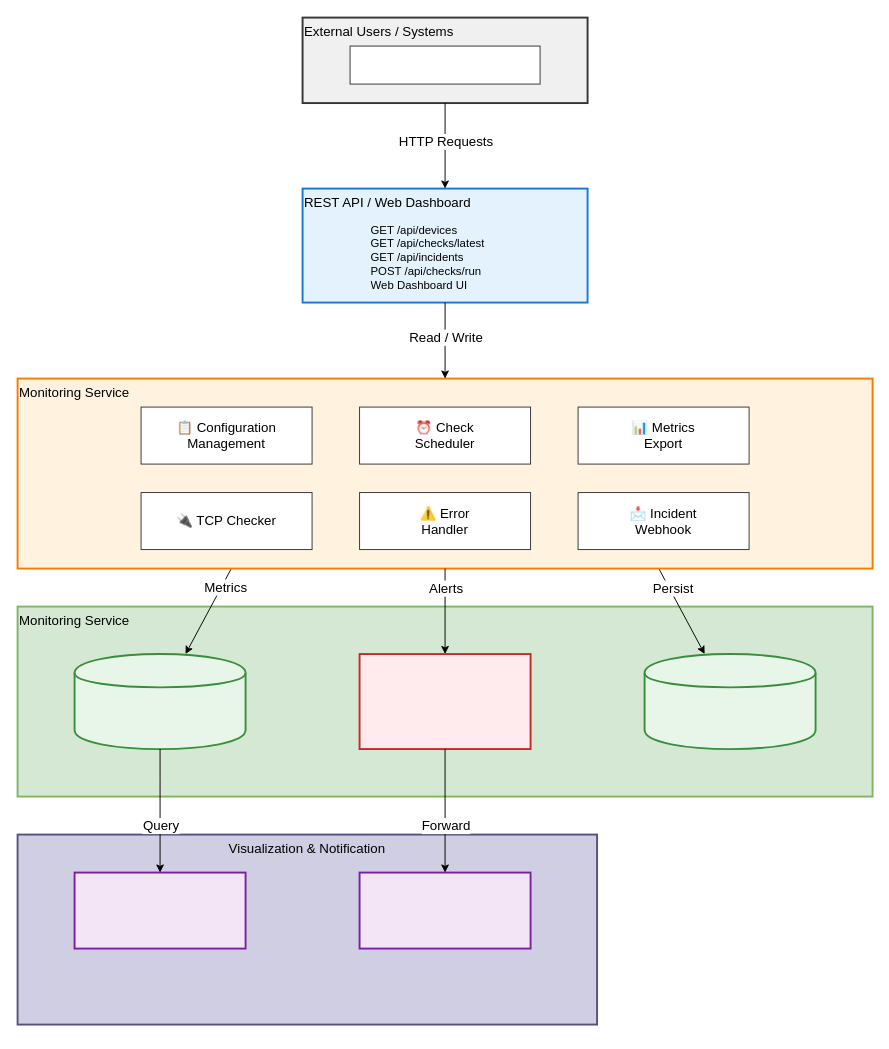
Some shapes in this 889 by 1049 pixel diagram are drawn without their labels. The centre of each missing label's shape, as x and y in pixels:
"👤 User / Browser" belongs at (444,64).
"💾 SQLite (Incidents)" belongs at (729,701).
"📈 Prometheus (Time Series)" belongs at (159,701).
"📊 Grafana (Dashboard)" belongs at (159,910).
"📧 Email / Webhook Notification" belongs at (444,910).
"🔔 Alertmanager (Alert Routing)" belongs at (444,701).
